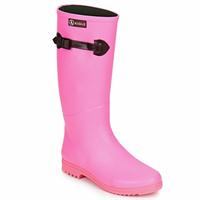shoe: (57, 10, 164, 196)
